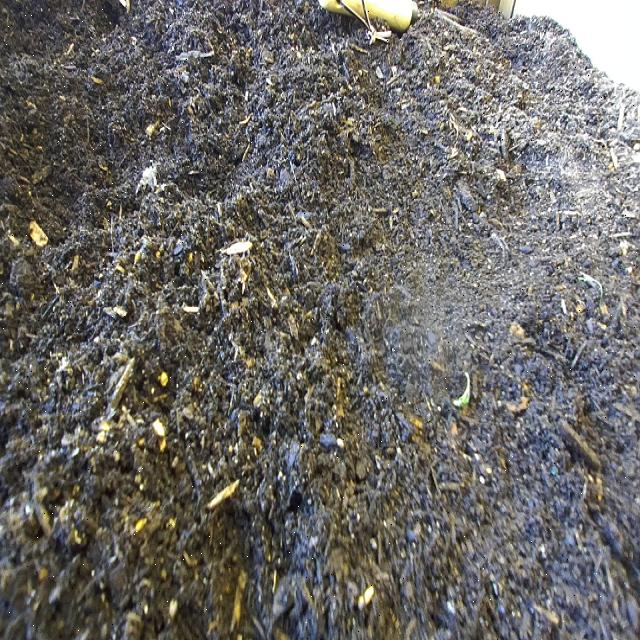Unhealthy: (445, 353, 483, 423)
